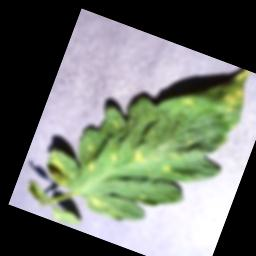Leaf_Mold: (192, 58, 256, 133), (128, 144, 154, 167)
